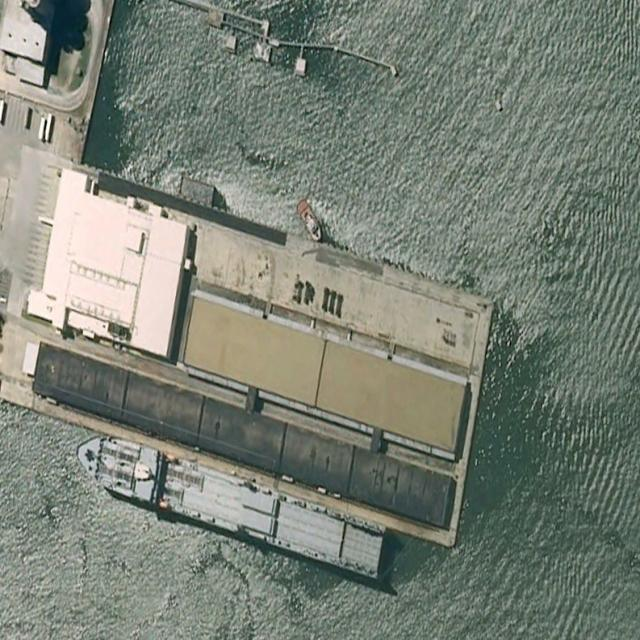Cargo: (70, 426, 386, 580)
Hovercraft: (294, 195, 325, 245)
